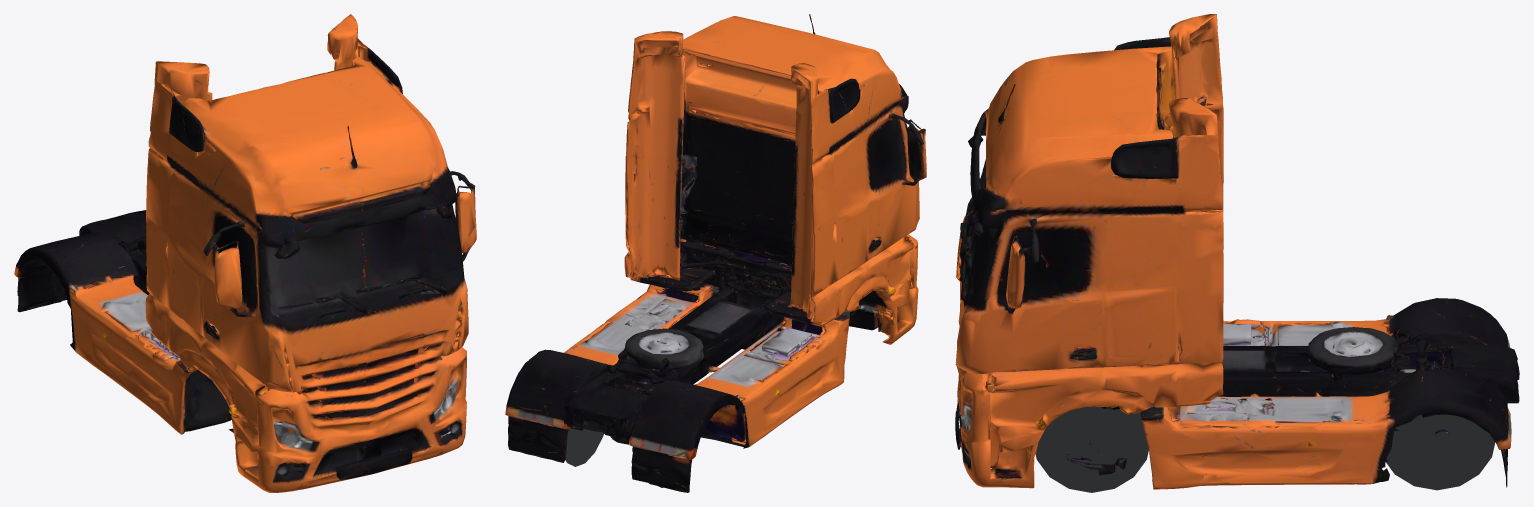
File: cav_laranja.glb
The picture shows the model from 3 angles, left to right: view 1: azimuth 30°, elevation 25°; view 2: azimuth 150°, elevation 25°; view 3: azimuth 270°, elevation 25°; orthographic projection. The views are drawn at different scales.
Visible parts, largest first — view 1: carroceria; view 2: carroceria, chassi; view 3: carroceria, chassi.
Boxes of the visible parts, x1=… form: carroceria: x1=14, y1=14, x2=476, y2=492; carroceria: x1=505, y1=14, x2=926, y2=492; chassi: x1=565, y1=286, x2=849, y2=487; carroceria: x1=955, y1=14, x2=1519, y2=489; chassi: x1=1035, y1=366, x2=1495, y2=492.
Size of the model in its own units: 3.21 by 4.32 by 5.5.
Materials: 2 (1 with a texture image).
